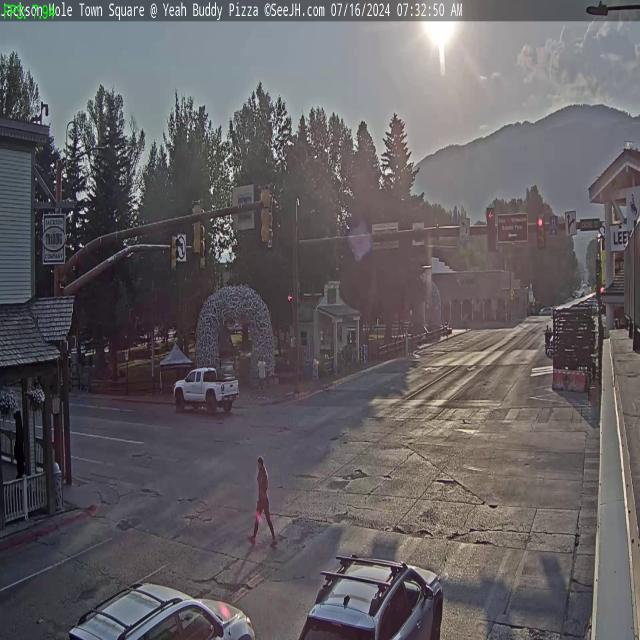person: (248, 454, 279, 547)
pickup: (172, 362, 240, 416)
suv: (301, 550, 452, 640), (64, 578, 265, 639)
traffic light: (260, 185, 274, 245), (190, 200, 204, 256), (168, 232, 178, 274), (487, 208, 496, 254), (536, 215, 544, 248)
